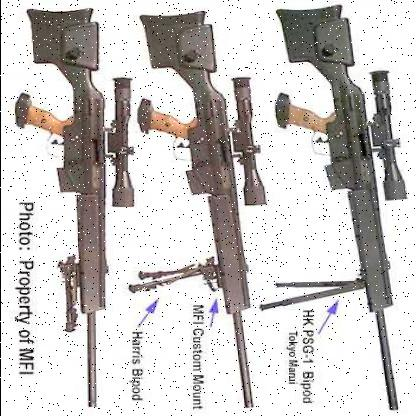rifle: (263, 0, 414, 413), (3, 9, 150, 413), (133, 8, 281, 409)
